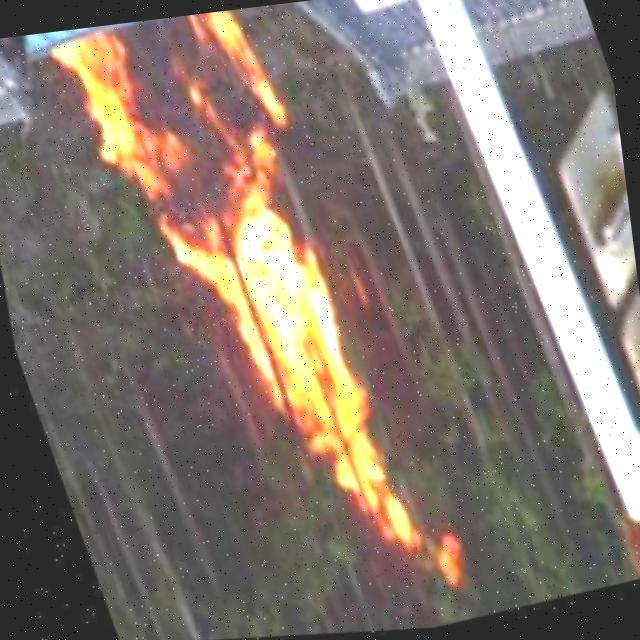fire: (32, 3, 470, 640)
